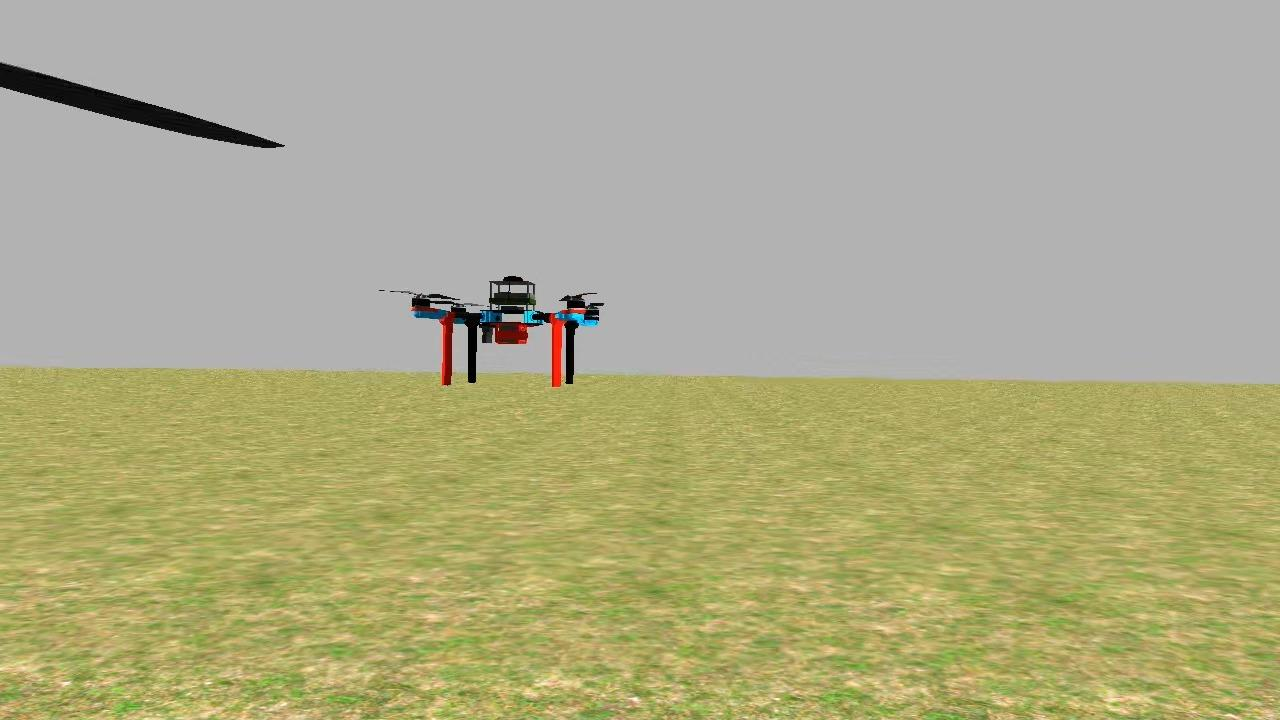UAV: (408, 268, 608, 394)
